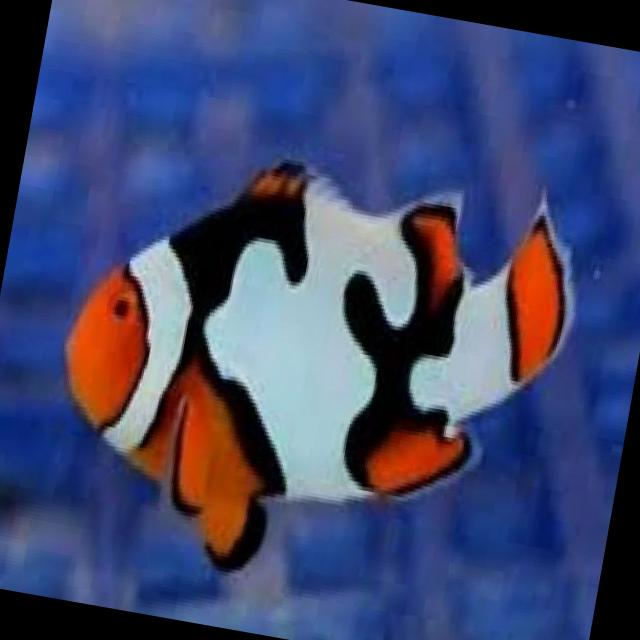ClownFish: (22, 112, 595, 625)
